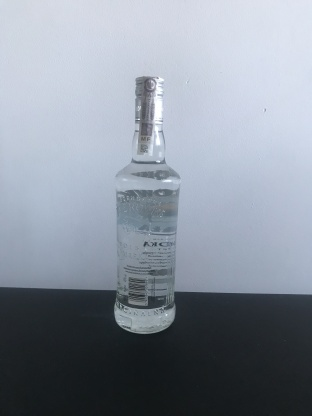nakretka: (132, 71, 166, 126)
